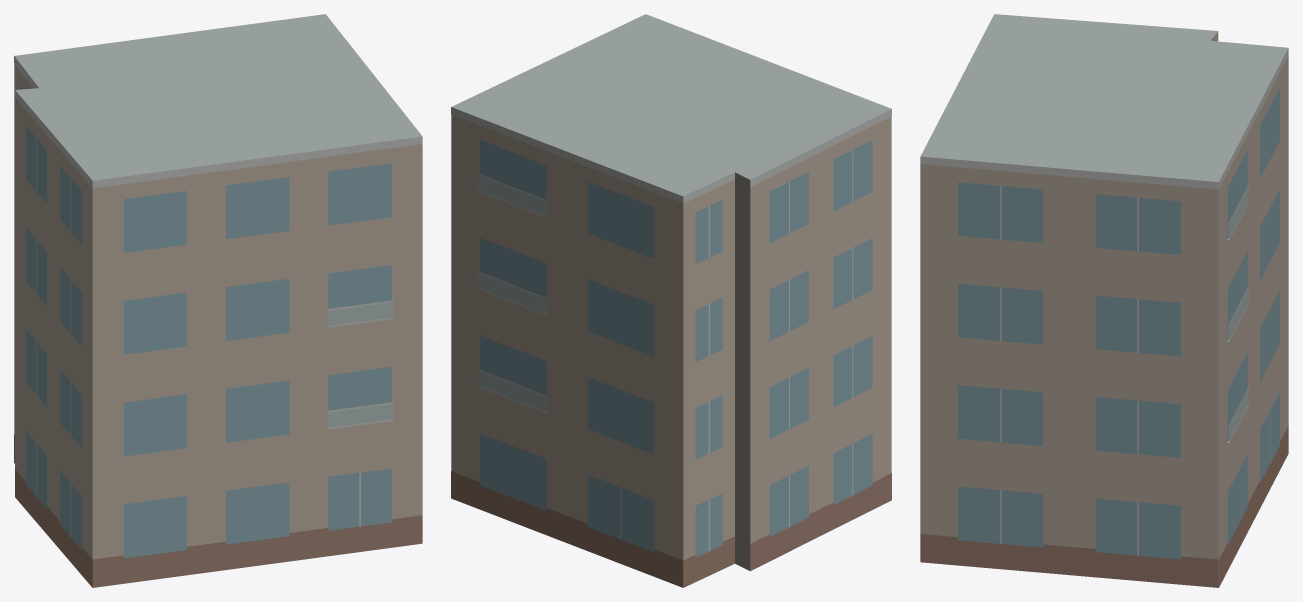
Rendered from survey-upis-32652844.glb.
3 views of the same model, side by side, from view 1: azimuth 30°, elevation 25°; view 2: azimuth 150°, elevation 25°; view 3: azimuth 270°, elevation 25° (orthographic). The views are drawn at different scales.
Parts seen in each view (by area): view 1: survey-upis-32652844.tmp; view 2: survey-upis-32652844.tmp; view 3: survey-upis-32652844.tmp.
Part boxes in pixels (x1,y1,x2,y2): survey-upis-32652844.tmp: (14,14,422,587); survey-upis-32652844.tmp: (451,14,891,587); survey-upis-32652844.tmp: (920,14,1288,587).
Bounding box in the file's own units: 11.74 × 13.2 × 10.87.
